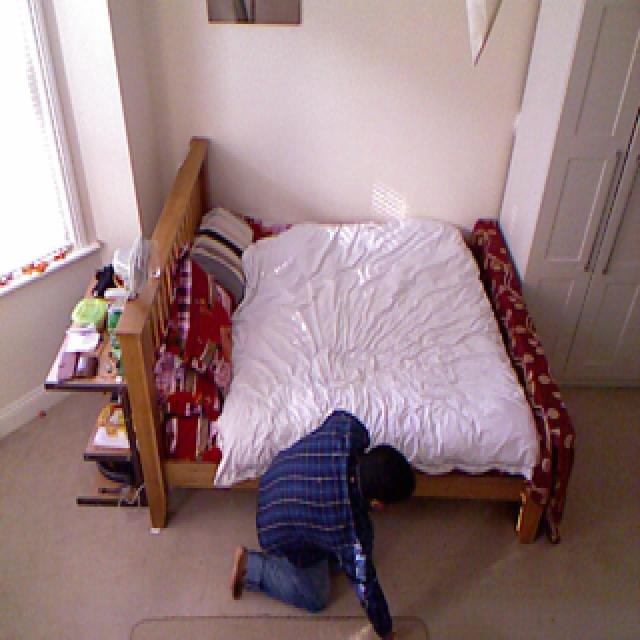crawling: (230, 408, 414, 640)
